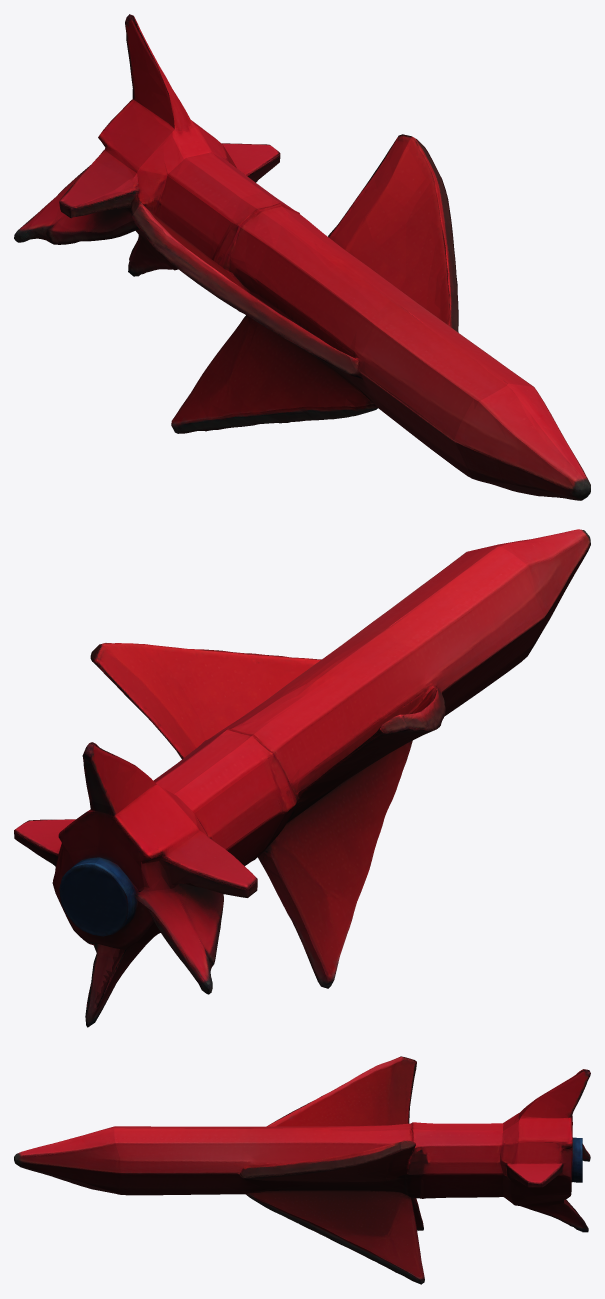
File: ракета земля-водух.glb
3 views of the same model, one above another, from view 1: azimuth 30°, elevation 25°; view 2: azimuth 150°, elevation 25°; view 3: azimuth 270°, elevation 25° (orthographic). The views are drawn at different scales.
Parts seen in each view (by area): view 1: world; view 2: world; view 3: world.
Part boxes in pixels (x1,y1,x2,y2): world: [14, 14, 590, 500]; world: [14, 529, 590, 1027]; world: [14, 1056, 590, 1284].
Size of the model in its own units: 0.3693 by 0.3613 by 1.
1 material, 1 textured.
